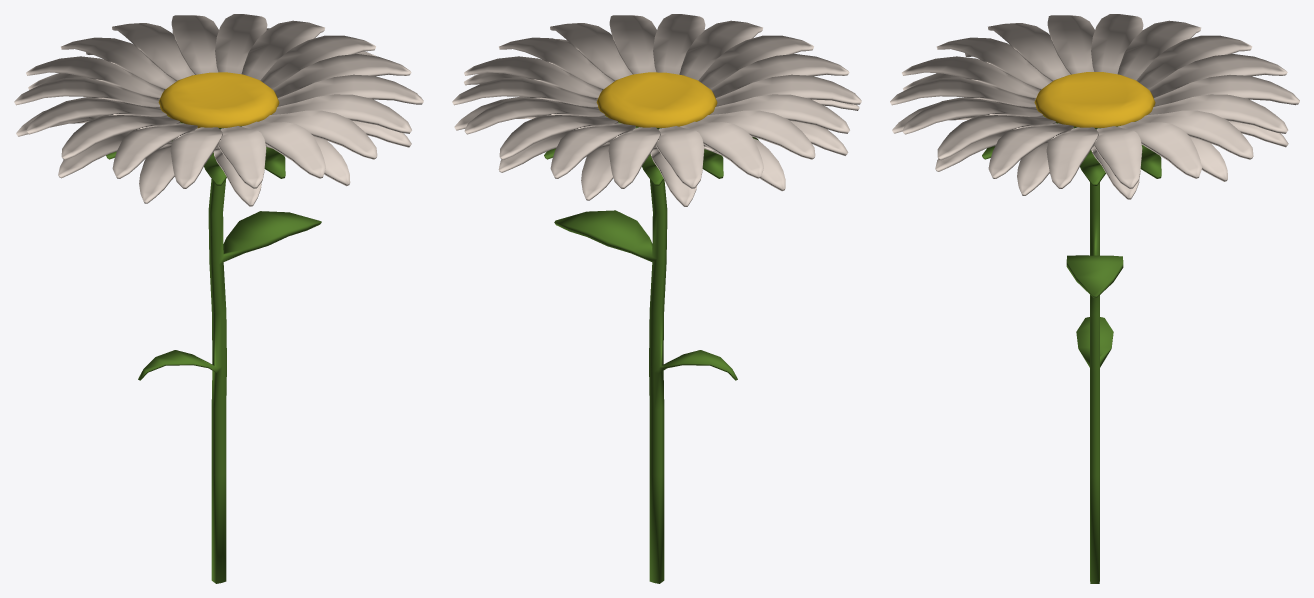
The model's file is päivänkakkara_valmis.fbx.
The picture shows the model from 3 angles, left to right: view 1: azimuth 30°, elevation 25°; view 2: azimuth 150°, elevation 25°; view 3: azimuth 270°, elevation 25°; orthographic projection.
Visible parts, largest first — view 1: terälehti1.005, varsi.005, terälehti2.005, pohjalehti.005; view 2: terälehti1.005, varsi.005, terälehti2.005, pohjalehti.005; view 3: terälehti1.005, varsi.005, terälehti2.005, pohjalehti.005.
Boxes of the visible parts, <box> form: terälehti1.005: <box>14,14,423,188</box>; varsi.005: <box>138,72,321,583</box>; terälehti2.005: <box>16,28,421,206</box>; pohjalehti.005: <box>106,116,285,185</box>; terälehti1.005: <box>452,14,861,188</box>; varsi.005: <box>554,72,737,583</box>; terälehti2.005: <box>454,39,859,206</box>; pohjalehti.005: <box>544,116,758,185</box>; terälehti1.005: <box>890,14,1299,188</box>; varsi.005: <box>1034,72,1155,583</box>; terälehti2.005: <box>892,53,1295,199</box>; pohjalehti.005: <box>982,116,1161,185</box>.
Bounding box in the file's own units: 473 × 640 × 478.
